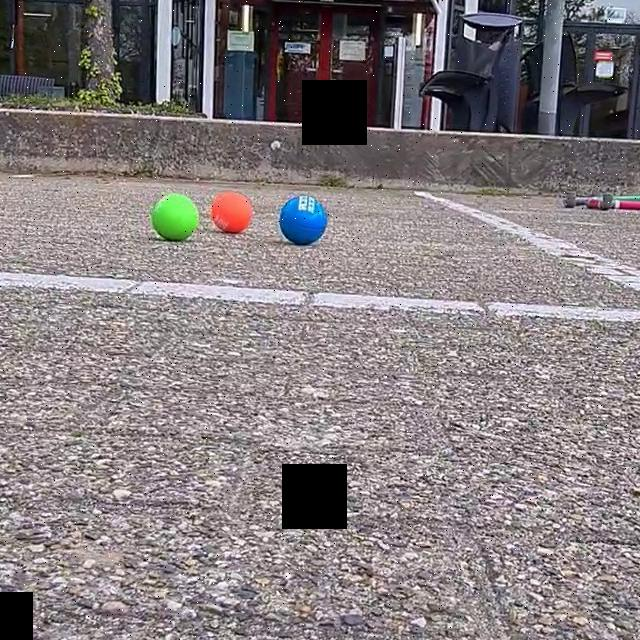ball: (279, 194, 330, 248), (149, 192, 203, 243), (212, 188, 254, 239)
